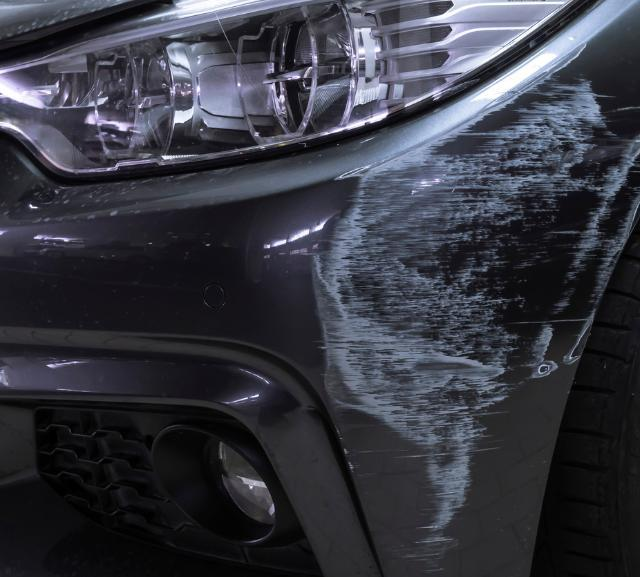Bumper: (80, 0, 640, 556)
